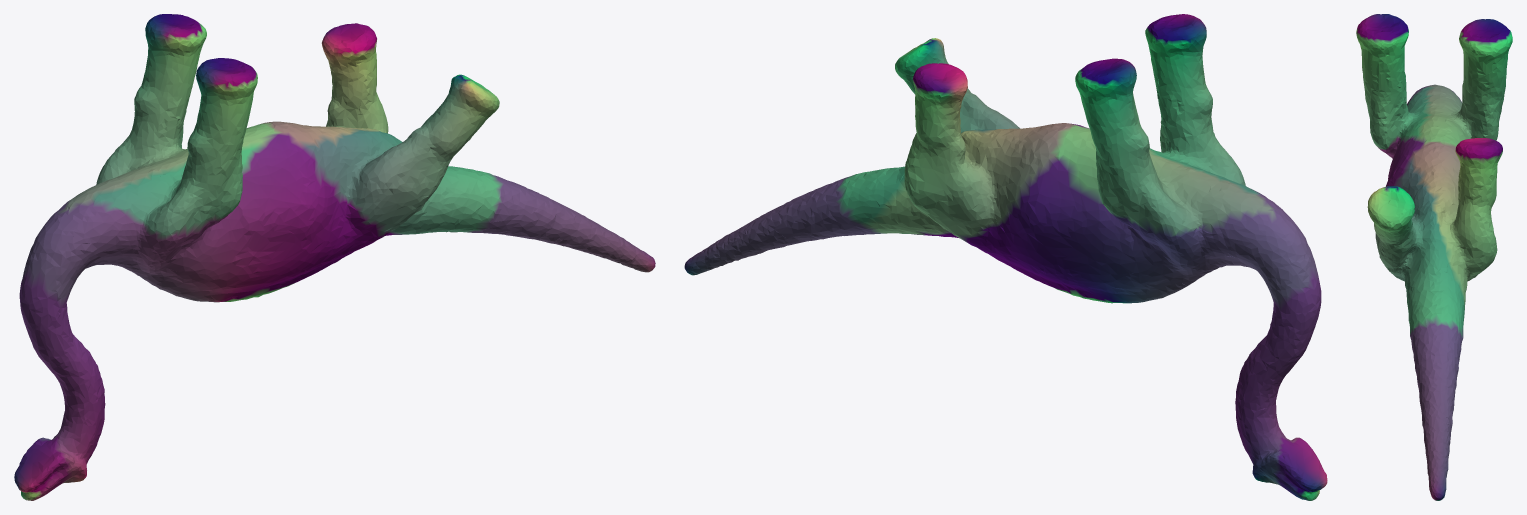
The model's file is dinosaur-10.off.obj.
3 views of the same model, side by side, from view 1: azimuth 30°, elevation 25°; view 2: azimuth 150°, elevation 25°; view 3: azimuth 270°, elevation 25° (orthographic). The views are drawn at different scales.
Size of the model in its own units: 1.39 by 0.8693 by 0.346.
